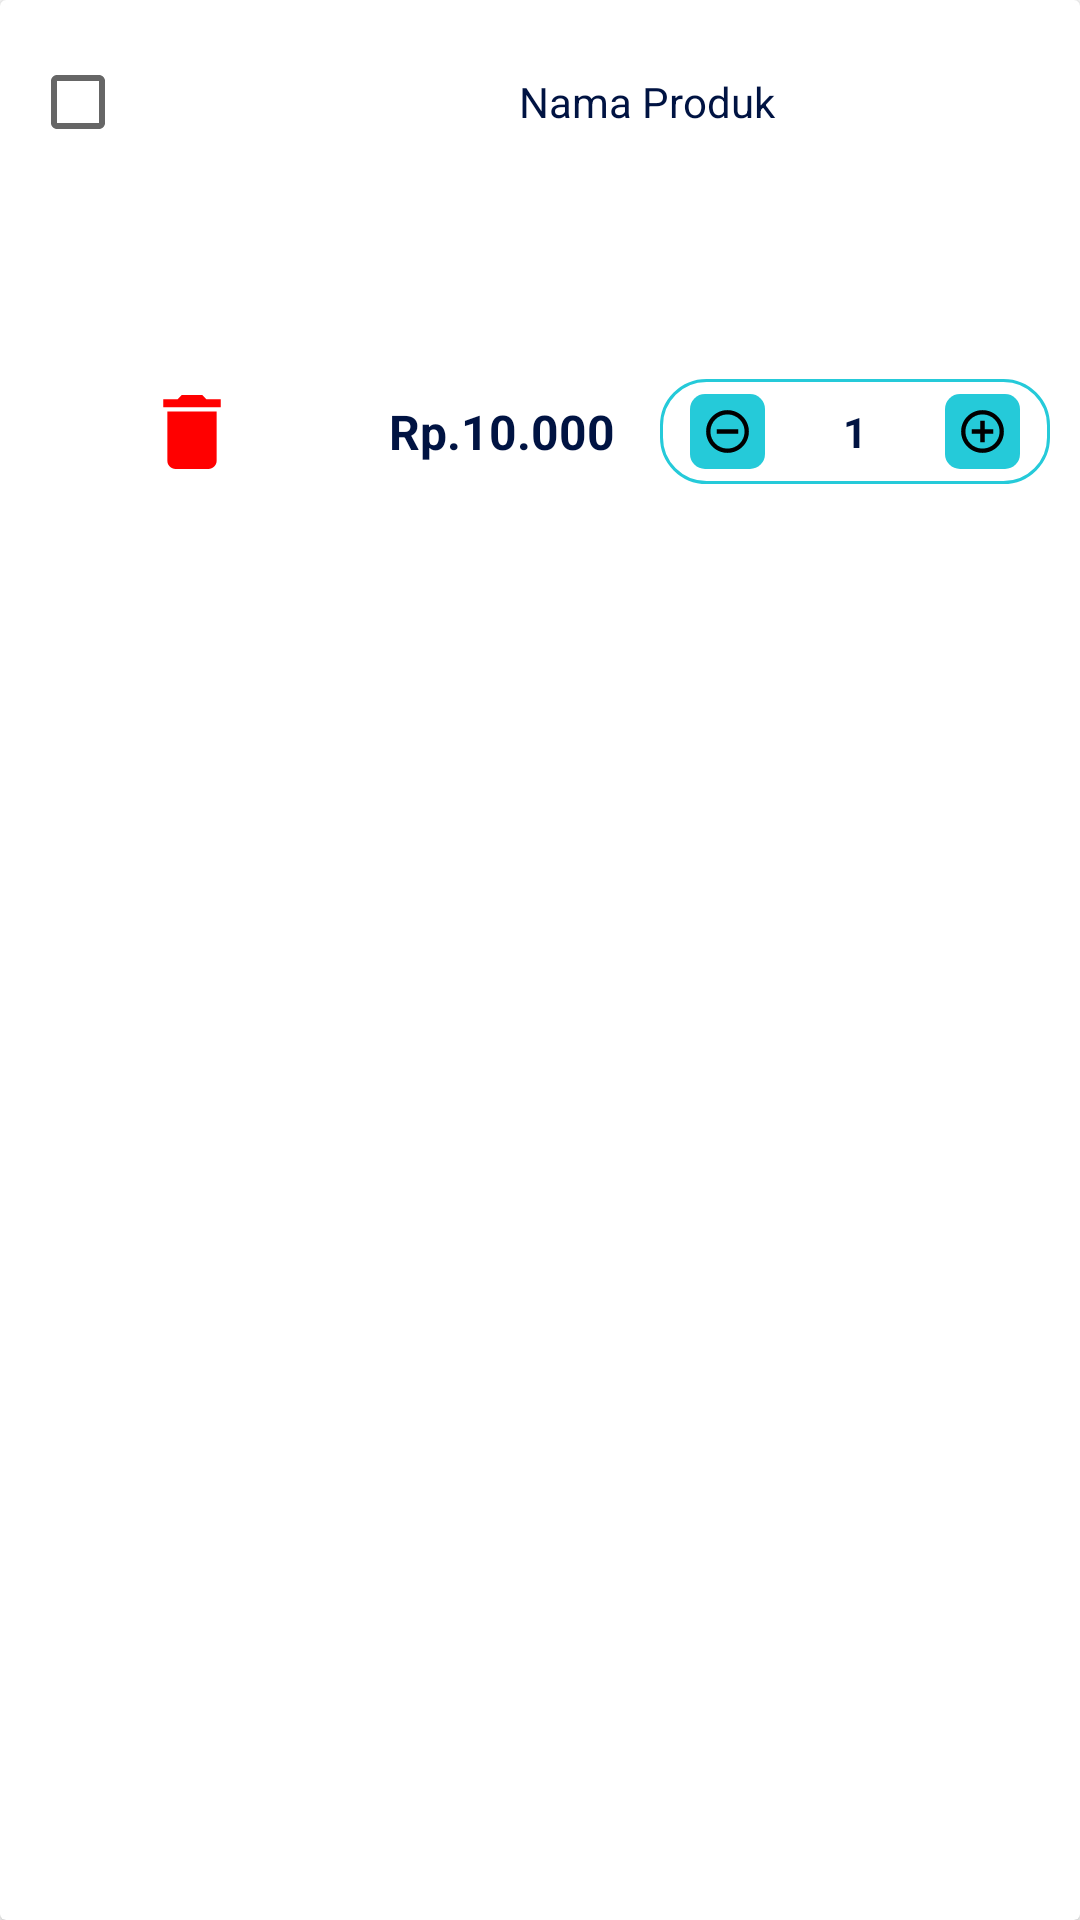

Icons on this 1080*1920 Android screen, each with its box as (x1, y1, x2, y2):
hapus: (163, 395, 221, 469)
kurangg: (690, 394, 765, 469)
tambah: (945, 394, 1020, 469)
